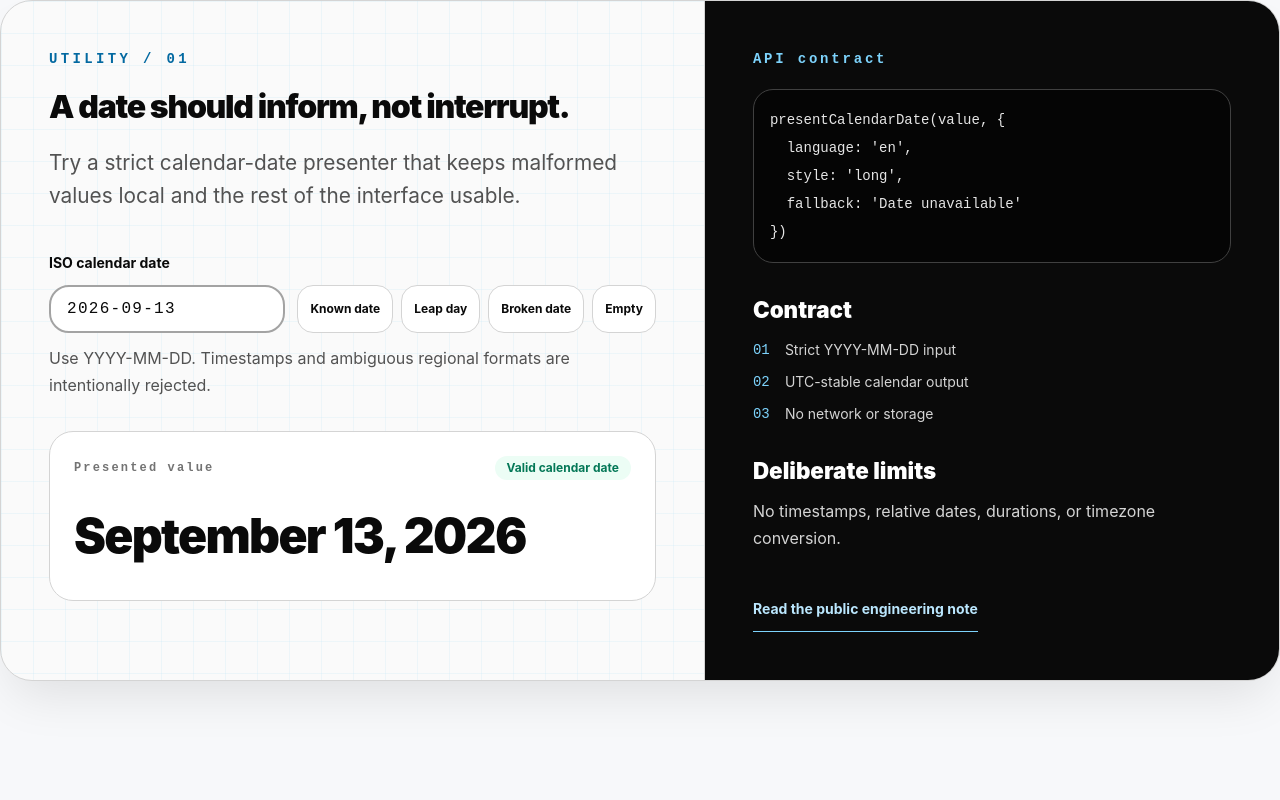
Test: DatePresentationDemo › contains malformed input without removing the rest of the demo
Replace the text in the field labelled "ISO calendar date" with "2023-02-29" at (167, 309), box [49, 285, 285, 333]
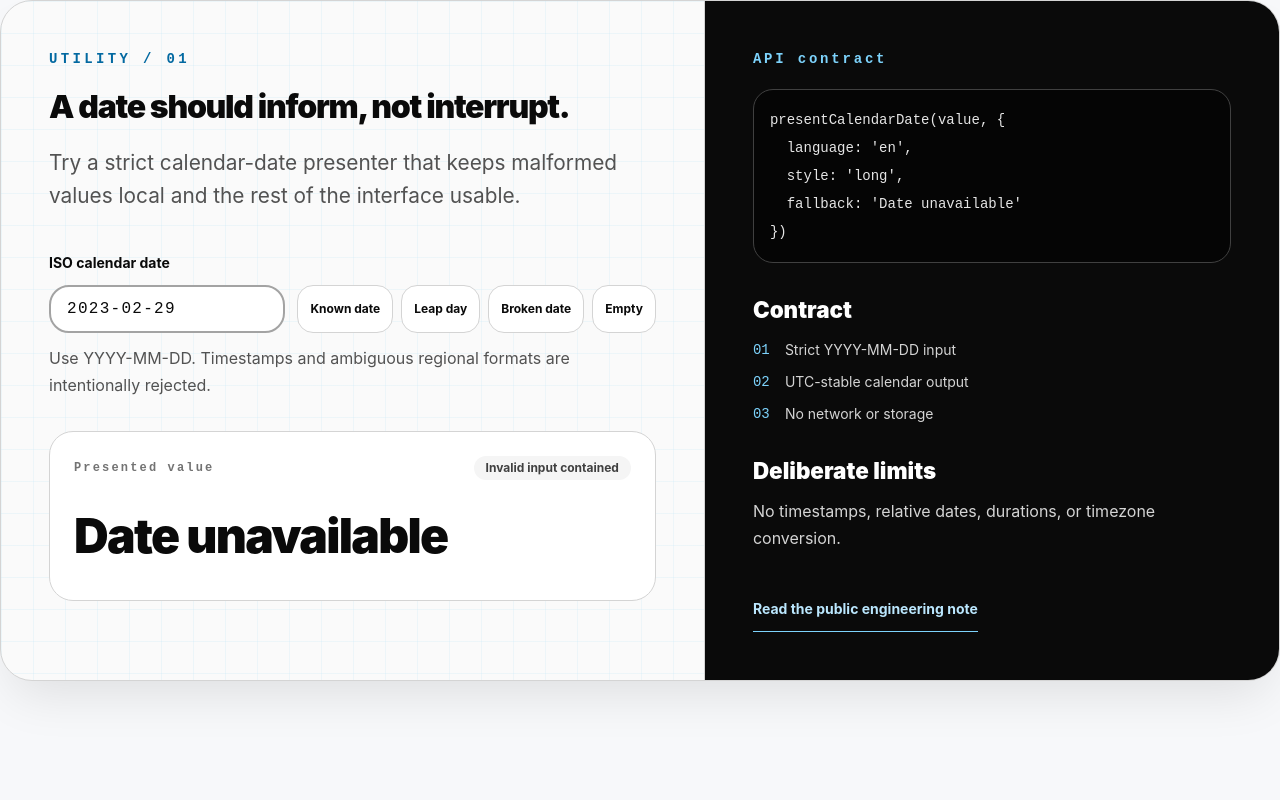
Expected: the heading "Contract" is shown, [753, 296, 852, 323]
Now the text "Invalid input contained" is shown, box [474, 456, 631, 480]
